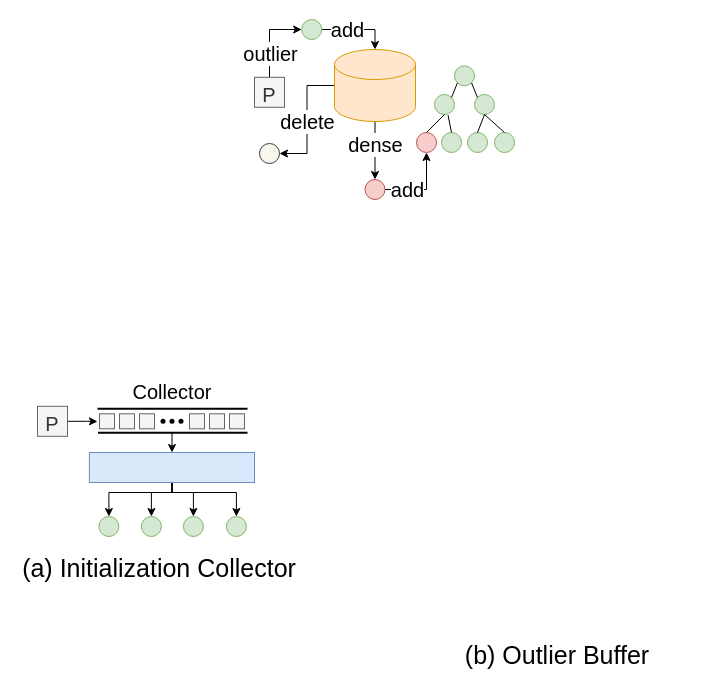
Some shapes in this 717 by 686 pixel diagram are drawn without their labels. Each missing label, with the centre of its shape:
Buffer: the point at 375,85
Offline Clustering: the point at 171,467
